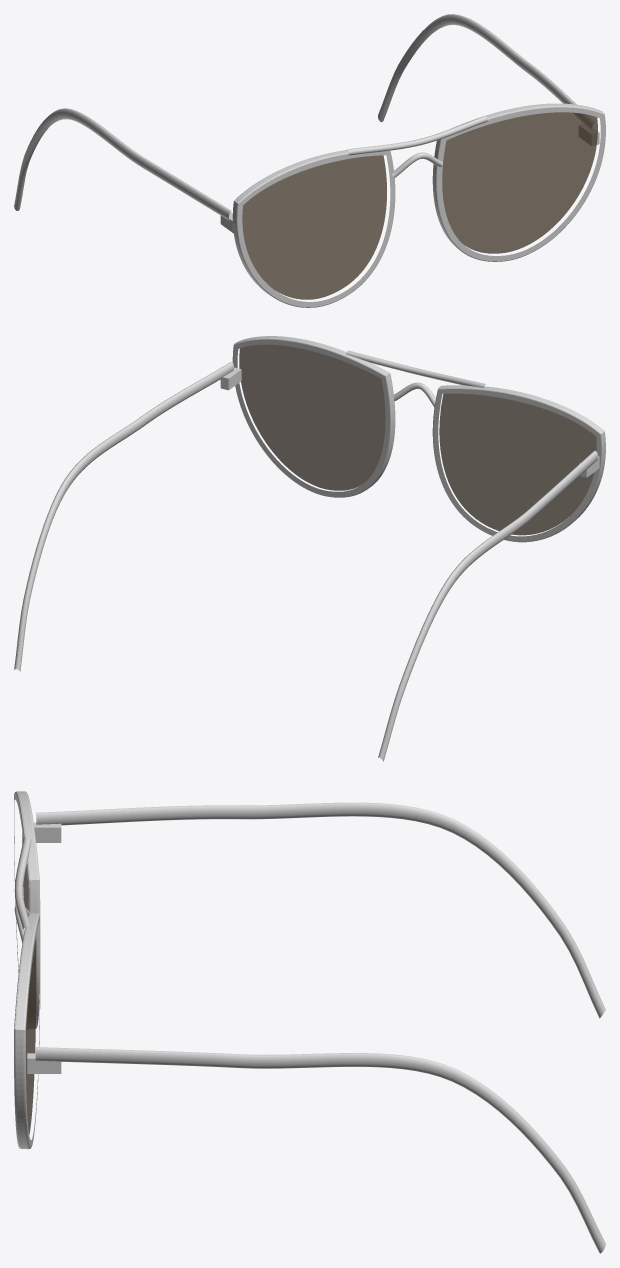
File: glasses-aviator.glb
3 views of the same model, one above another, from view 1: azimuth 30°, elevation 25°; view 2: azimuth 150°, elevation 25°; view 3: azimuth 270°, elevation 25° (orthographic). The views are drawn at different scales.
Parts seen in each view (by area): view 1: lens_l, lens_r, rim_l, rim_r, temple_r, temple_l, browbar, bridge; view 2: lens_r, lens_l, rim_r, rim_l, temple_l, temple_r, browbar; view 3: temple_r, temple_l, rim_l, rim_r, lens_l, browbar.
Part boxes in pixels (x1,y1,x2,y2): lens_l: (442,112,597,253); lens_r: (242,155,386,299); rim_l: (432,103,605,261); rim_r: (232,150,395,307); temple_r: (14,108,231,220); temple_l: (378,14,594,128); browbar: (347,116,487,155); bridge: (391,152,442,178); lens_r: (439,393,596,535); lens_l: (239,344,385,490); rim_r: (432,385,605,542); rim_l: (232,336,395,497); temple_l: (14,362,233,671); temple_r: (378,451,597,761); browbar: (346,350,485,387); temple_r: (36,802,605,1018); temple_l: (35,1047,605,1253); rim_l: (14,913,40,1149); rim_r: (14,791,40,1028); lens_l: (26,937,36,1134); browbar: (14,837,31,930).
Size of the model in its own units: 0.141 by 0.0658 by 0.1389.
